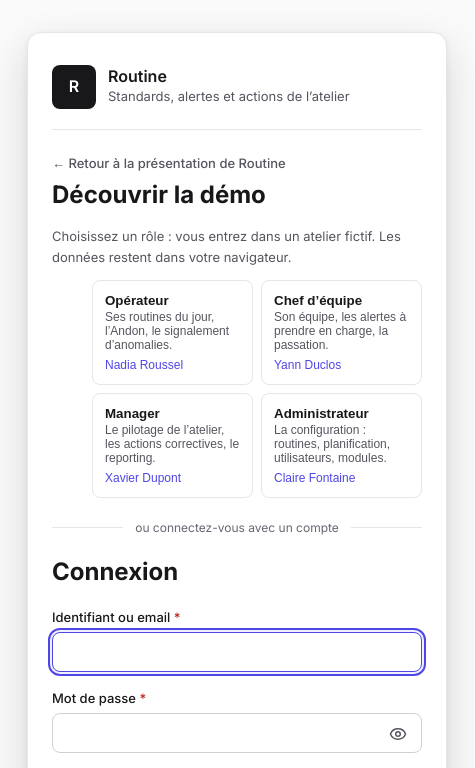
Test: connexion et droits › refuse un mauvais mot de passe et un compte désactivé
Type "operateur" into the field labelled "Identifiant ou email *".
click(237, 652); type("operateur")  # box [52,632,422,672]
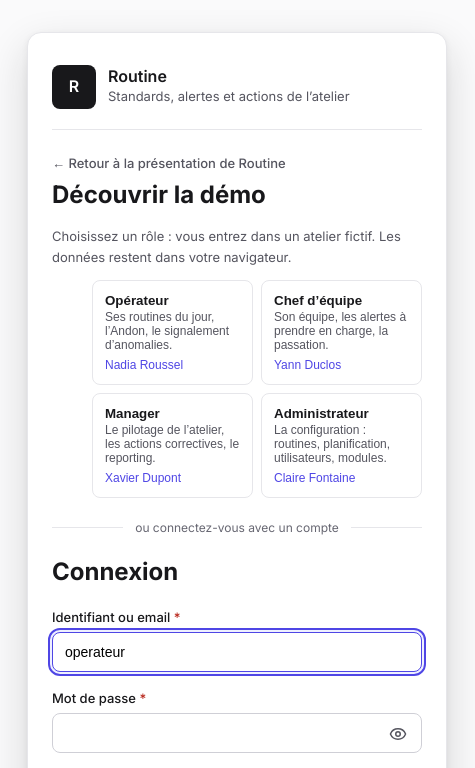
Type "mauvais" into the password field labelled "Mot de passe *".
click(237, 733); type("mauvais")  # box [52,713,422,753]
(page scrolled)
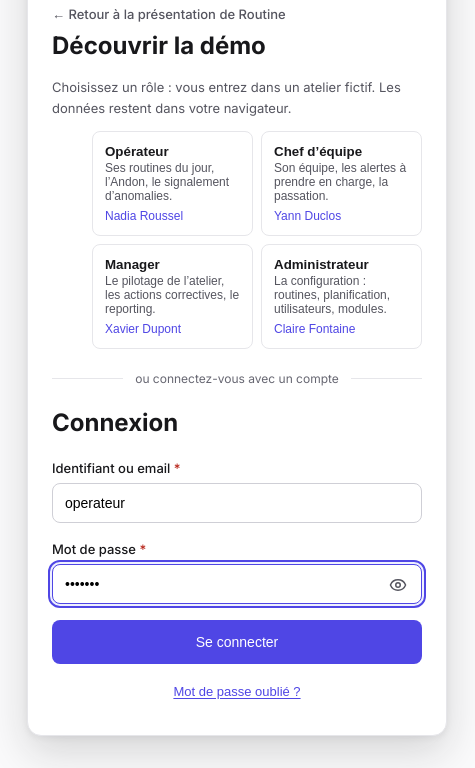
Click the button "Se connecter".
click(237, 642)  # box [52,620,422,664]
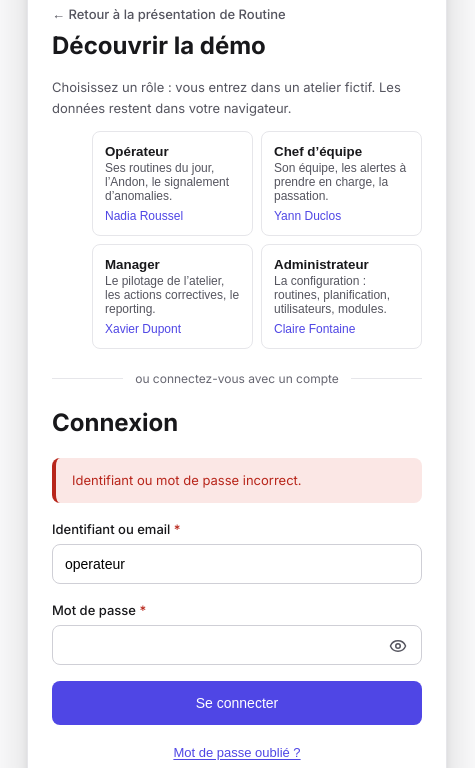
Expected: the text "Identifiant ou mot de passe incorrect." is shown, [52,458,422,503]
Replace the text in the field labelled "Identifiant ou email *" with "tom.berg@atelier.local" at (237, 564), box [52,544,422,584]
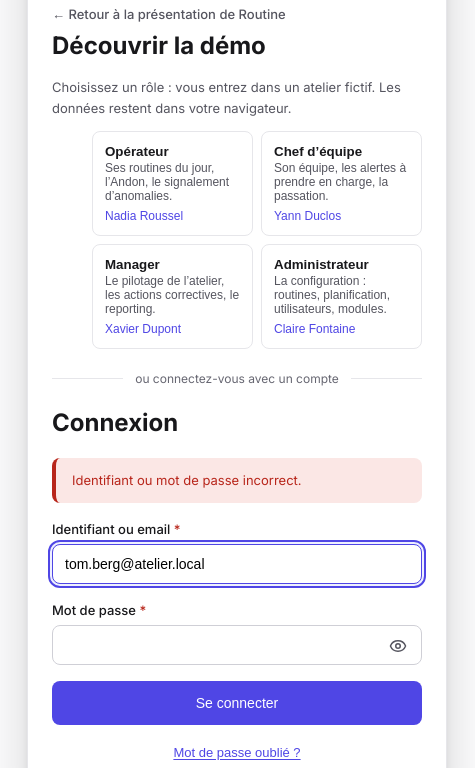
Type "Routines2026" into the password field labelled "Mot de passe *".
click(237, 644); type("Routines2026")  # box [52,624,422,664]
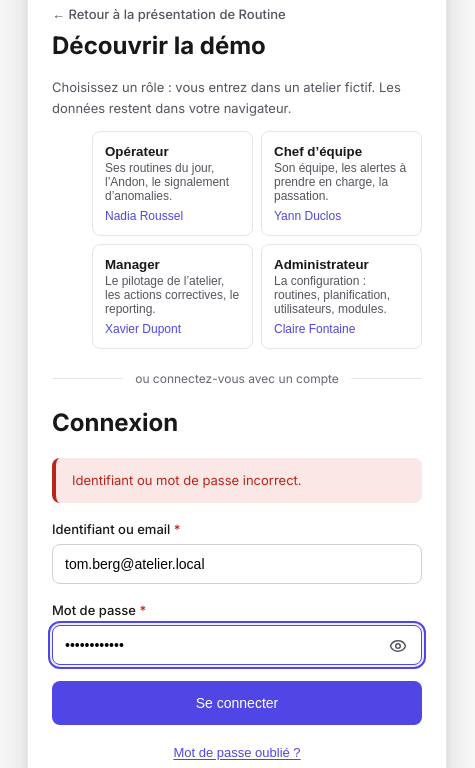
Click the button "Se connecter".
click(237, 702)  # box [52,680,422,724]
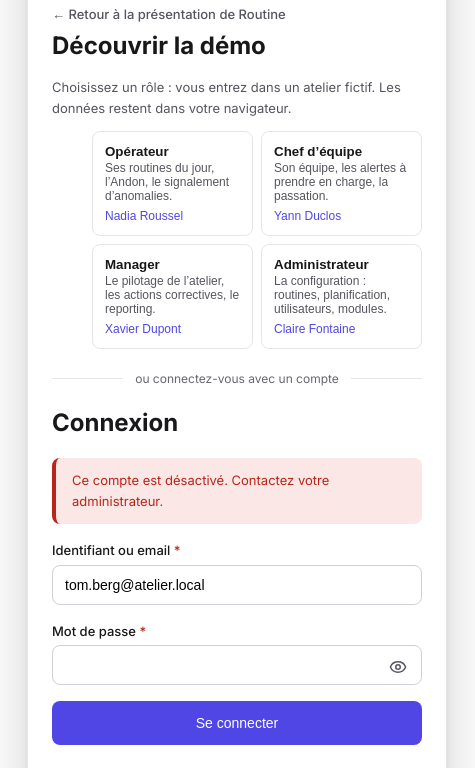
Expected: the text "Ce compte est désactivé. Contactez votre administrateur." is shown, [52,458,422,524]
